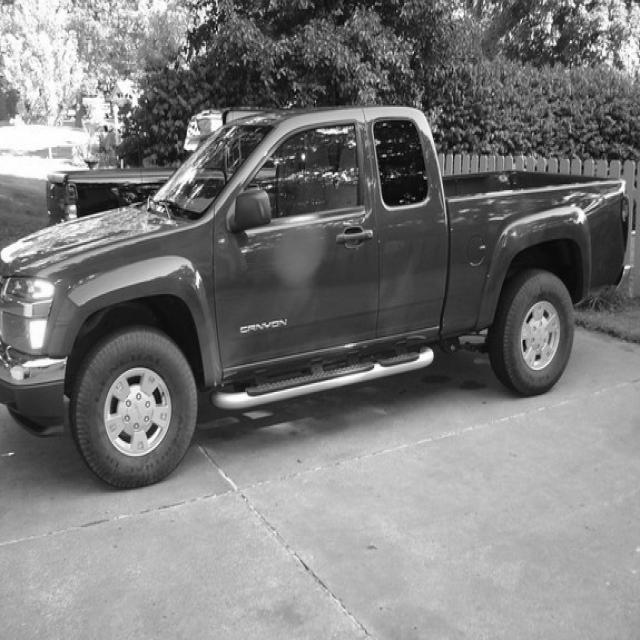car: (3, 100, 637, 494)
